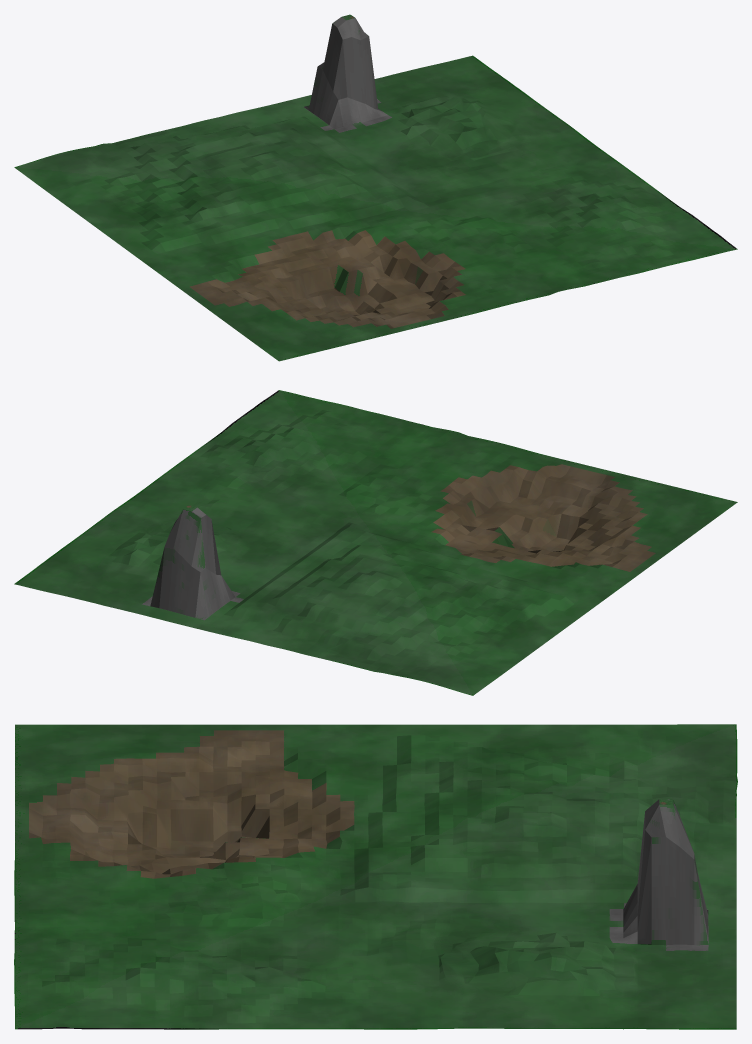
File: level.glb
3 views of the same model, one above another, from view 1: azimuth 30°, elevation 25°; view 2: azimuth 150°, elevation 25°; view 3: azimuth 270°, elevation 25° (orthographic). The views are drawn at different scales.
Visible parts, largest first — view 1: Plane; view 2: Plane; view 3: Plane.
Part boxes in pixels (bbox=[...]): Plane: bbox=[14, 14, 737, 361]; Plane: bbox=[14, 390, 737, 695]; Plane: bbox=[14, 724, 737, 1029].
Size of the model in its own units: 401 by 107 by 401.
Materials: 1 (1 with a texture image).
